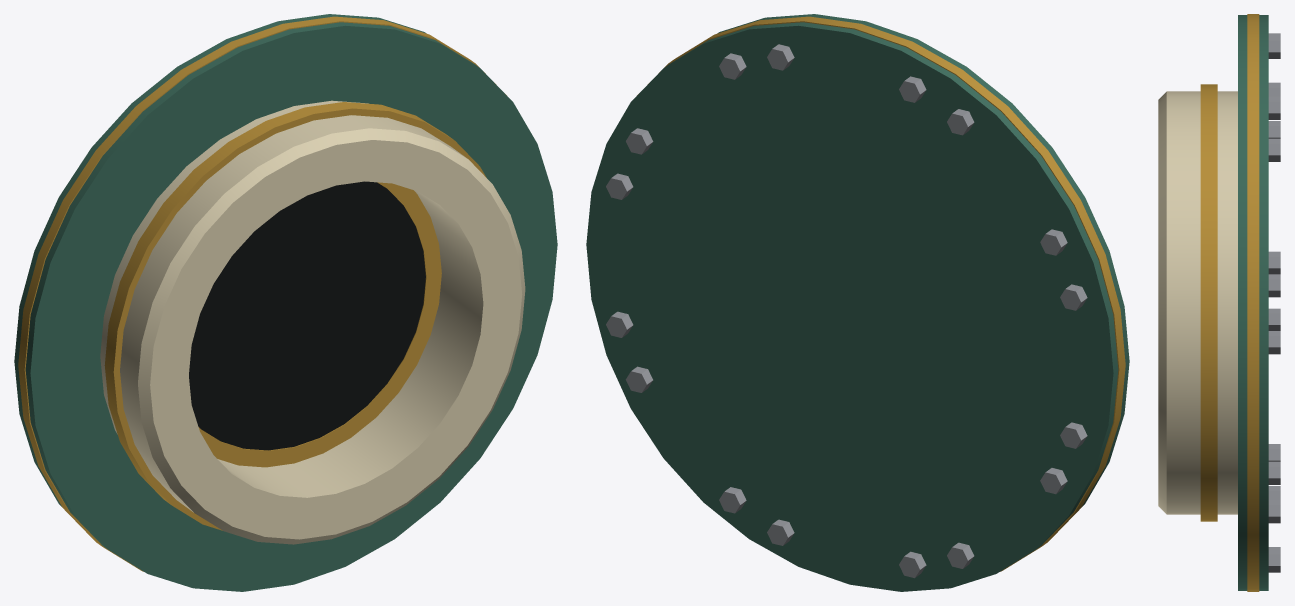
The model's file is tank4200_coupler_aft.obj.
The picture shows the model from 3 angles, left to right: view 1: azimuth 30°, elevation 25°; view 2: azimuth 150°, elevation 25°; view 3: azimuth 270°, elevation 25°; orthographic projection. The views are drawn at different scales.
Parts seen in each view (by area): view 1: tank4200_coupler_aft; view 2: tank4200_coupler_aft; view 3: tank4200_coupler_aft.
Part boxes in pixels (bbox=[...]): tank4200_coupler_aft: bbox=[14, 14, 557, 591]; tank4200_coupler_aft: bbox=[586, 14, 1129, 591]; tank4200_coupler_aft: bbox=[1158, 14, 1280, 591].
Bounding box in the file's own units: 3.41 × 3.41 × 0.7214.
